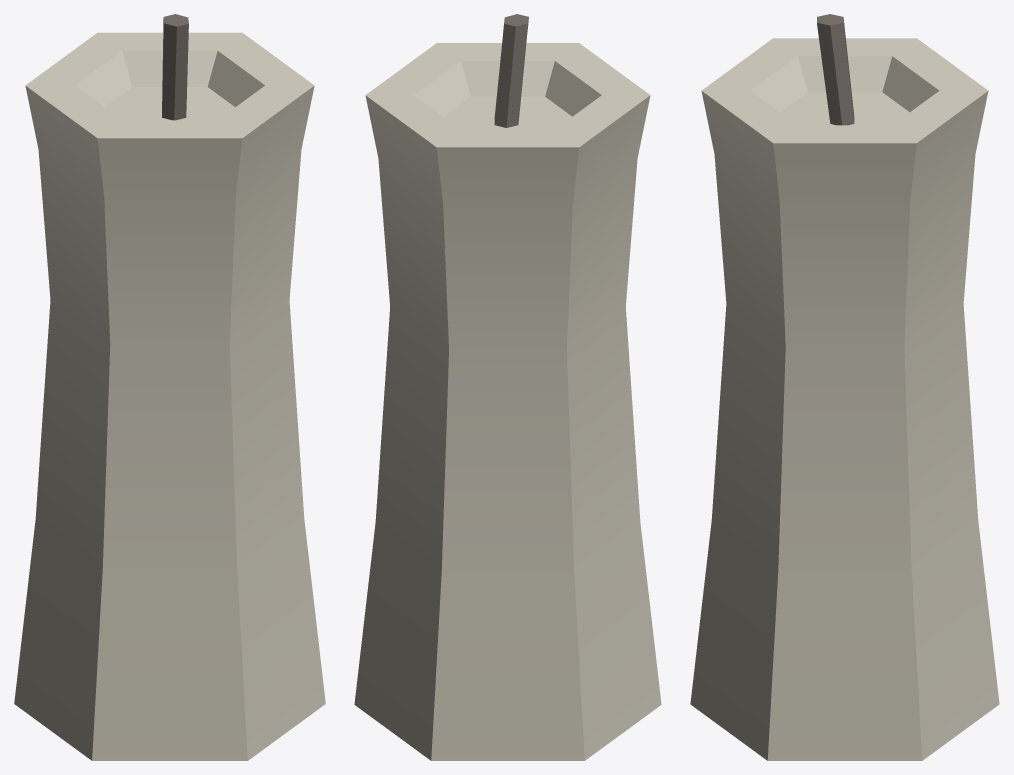
The model's file is Candle_1.fbx.
3 renders of one model, left to right at view 1: azimuth 30°, elevation 25°; view 2: azimuth 150°, elevation 25°; view 3: azimuth 270°, elevation 25°, orthographic.
Parts seen in each view (by area): view 1: polySurface2106; view 2: polySurface2106; view 3: polySurface2106.
Part boxes in pixels (box(x1,y1,x2,y2)): polySurface2106: box(14, 14, 325, 760); polySurface2106: box(354, 14, 661, 760); polySurface2106: box(690, 14, 999, 760).
Size of the model in its own units: 0.1461 by 0.4117 by 0.1687.
